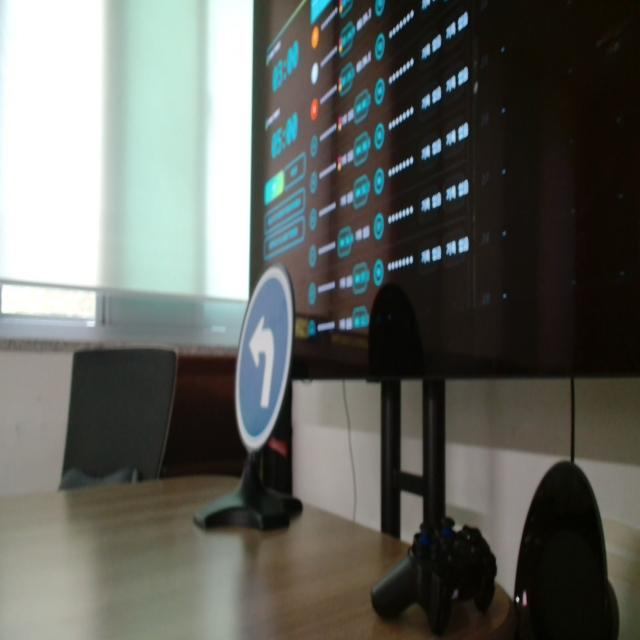left_direction: (230, 248, 332, 488)
